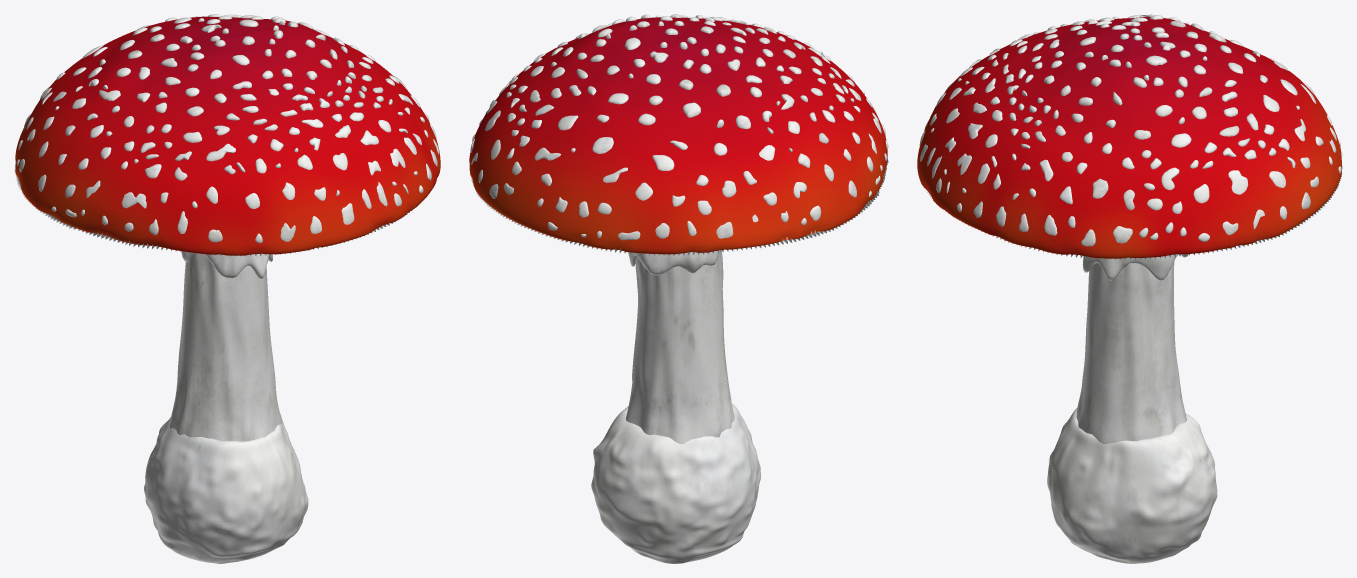
File: amanita_muscaria.glb
3 views of the same model, side by side, from view 1: azimuth 30°, elevation 25°; view 2: azimuth 150°, elevation 25°; view 3: azimuth 270°, elevation 25° (orthographic).
Parts seen in each view (by area): view 1: Object_2, Object_37, Object_34, Object_35, Object_23, Object_19, Object_18, Object_31, Object_20, Object_14, Object_30, Object_28 (+7 smaller); view 2: Object_2, Object_37, Object_34, Object_35, Object_16, Object_11, Object_36, Object_24, Object_25, Object_7, Object_13, Object_21 (+4 smaller); view 3: Object_2, Object_37, Object_34, Object_24, Object_35, Object_12, Object_10, Object_21, Object_13, Object_9, Object_27, Object_17 (+8 smaller).
Boxes of the visible parts, x1,y1,x2,y2 form: Object_2: [15, 16, 440, 255]; Object_37: [144, 413, 308, 563]; Object_34: [170, 253, 281, 441]; Object_35: [181, 251, 272, 279]; Object_23: [26, 19, 391, 242]; Object_19: [19, 55, 371, 208]; Object_18: [38, 98, 297, 208]; Object_31: [121, 143, 405, 208]; Object_20: [90, 36, 337, 235]; Object_14: [65, 67, 401, 206]; Object_30: [53, 90, 378, 197]; Object_28: [23, 24, 416, 224]; Object_2: [469, 17, 887, 254]; Object_37: [591, 403, 760, 563]; Object_34: [626, 250, 734, 443]; Object_35: [628, 250, 721, 275]; Object_16: [555, 14, 801, 238]; Object_11: [575, 16, 783, 206]; Object_36: [470, 157, 888, 255]; Object_24: [485, 56, 822, 130]; Object_25: [503, 67, 841, 214]; Object_7: [472, 18, 807, 235]; Object_13: [470, 28, 795, 159]; Object_21: [471, 27, 755, 198]; Object_2: [917, 17, 1342, 258]; Object_37: [1047, 408, 1217, 563]; Object_34: [1076, 261, 1186, 444]; Object_24: [1018, 21, 1279, 198]; Object_35: [1083, 254, 1188, 280]; Object_12: [990, 34, 1256, 204]; Object_10: [1055, 33, 1287, 219]; Object_21: [1032, 43, 1323, 246]; Object_13: [1044, 20, 1295, 235]; Object_9: [946, 22, 1256, 213]; Object_27: [985, 39, 1285, 243]; Object_17: [991, 56, 1237, 231].
Size of the model in its own units: 5.92 by 7.85 by 5.93.
Materials: 4 (3 with a texture image).
